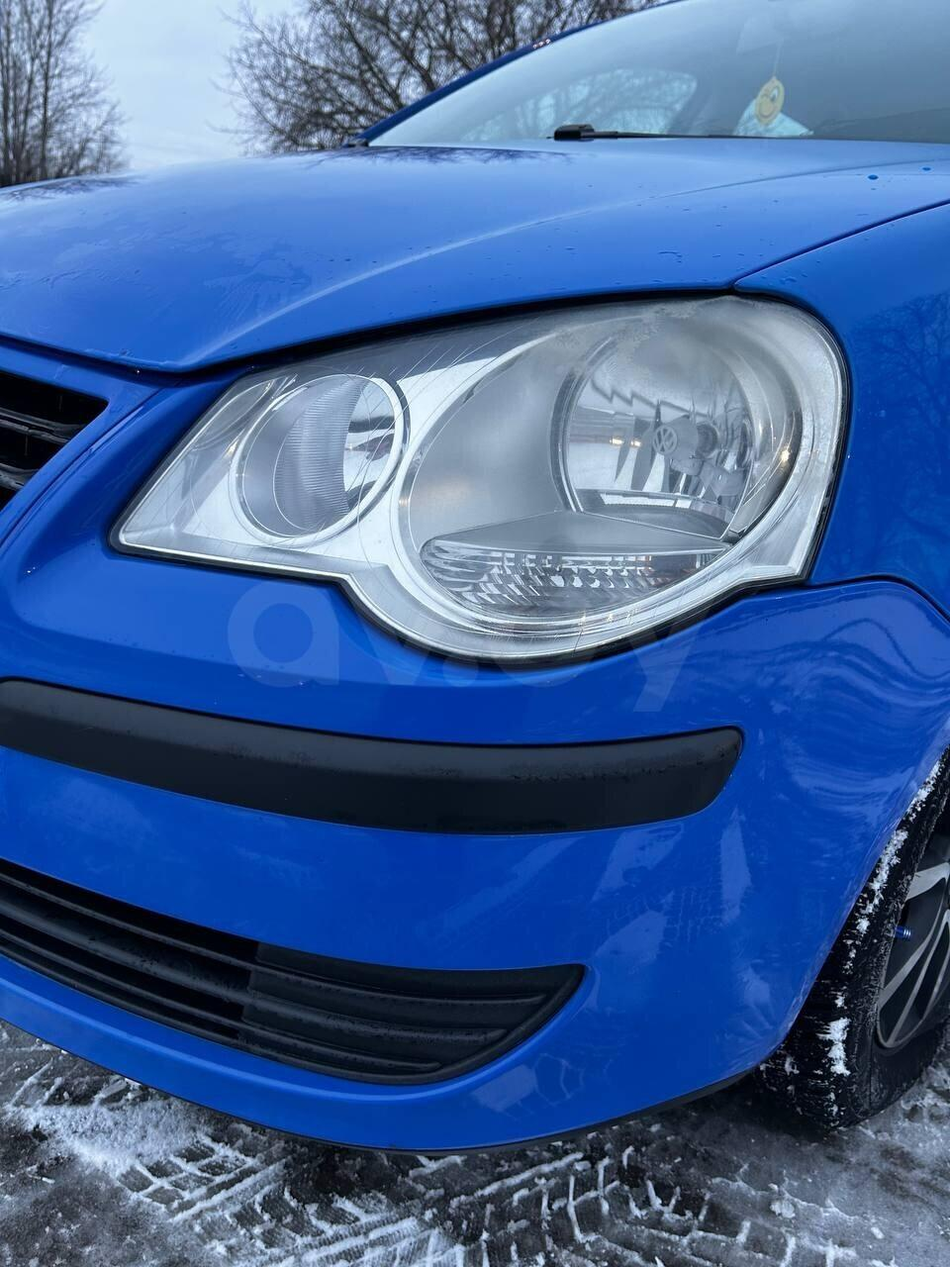Polo_2005-2009: (0, 0, 949, 1140)
